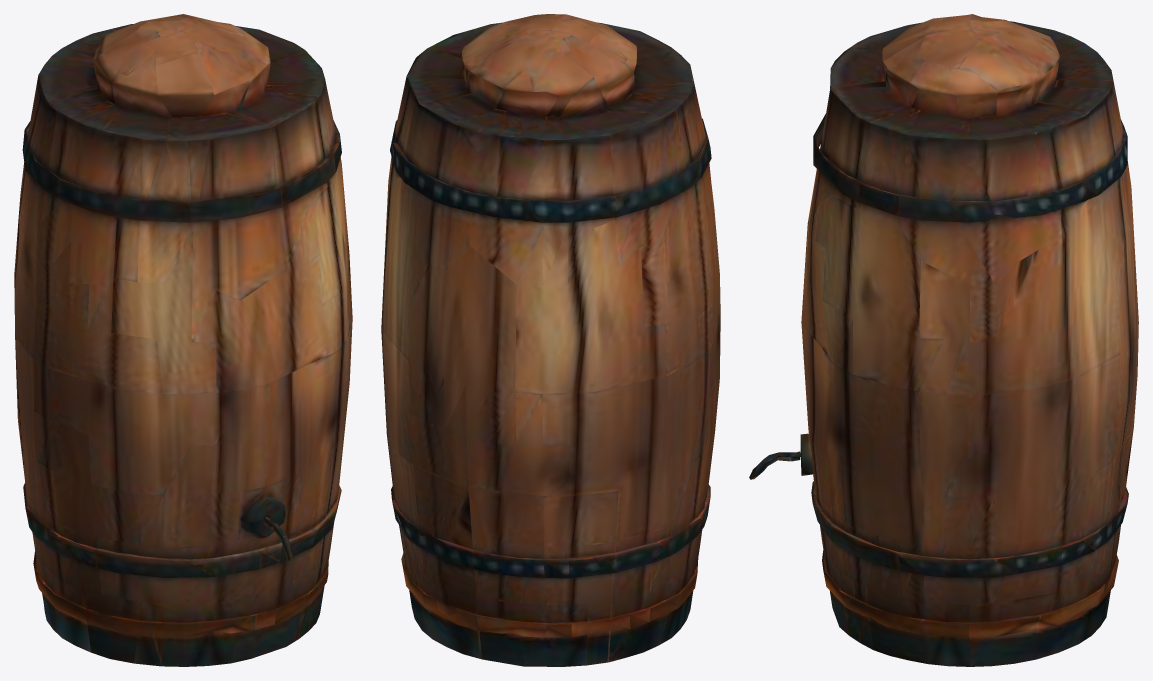
File: barrel.lod1.glb
The picture shows the model from 3 angles, left to right: view 1: azimuth 30°, elevation 25°; view 2: azimuth 150°, elevation 25°; view 3: azimuth 270°, elevation 25°; orthographic projection.
Size of the model in its own units: 0.4834 by 0.9 by 0.5502.
Materials: 1 (1 with a texture image).
